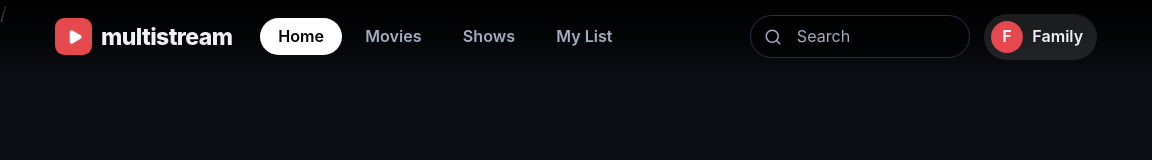
Header › searches after a pause in typing
Type "heat" into the search field named "Search movies and shows". click: (860, 37)
box: x1=750 y1=15 x2=970 y2=58
Wait 500 ms
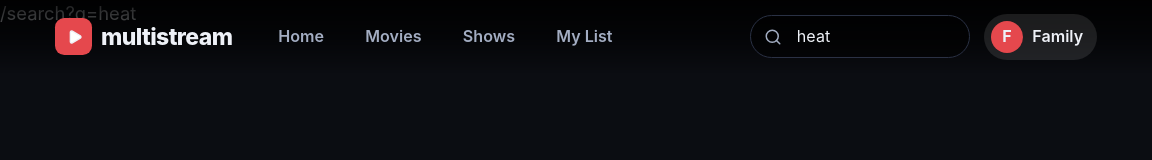
Result: the text with test id "where" reads "/search?q=heat" at x1=0 y1=2 x2=136 y2=24
